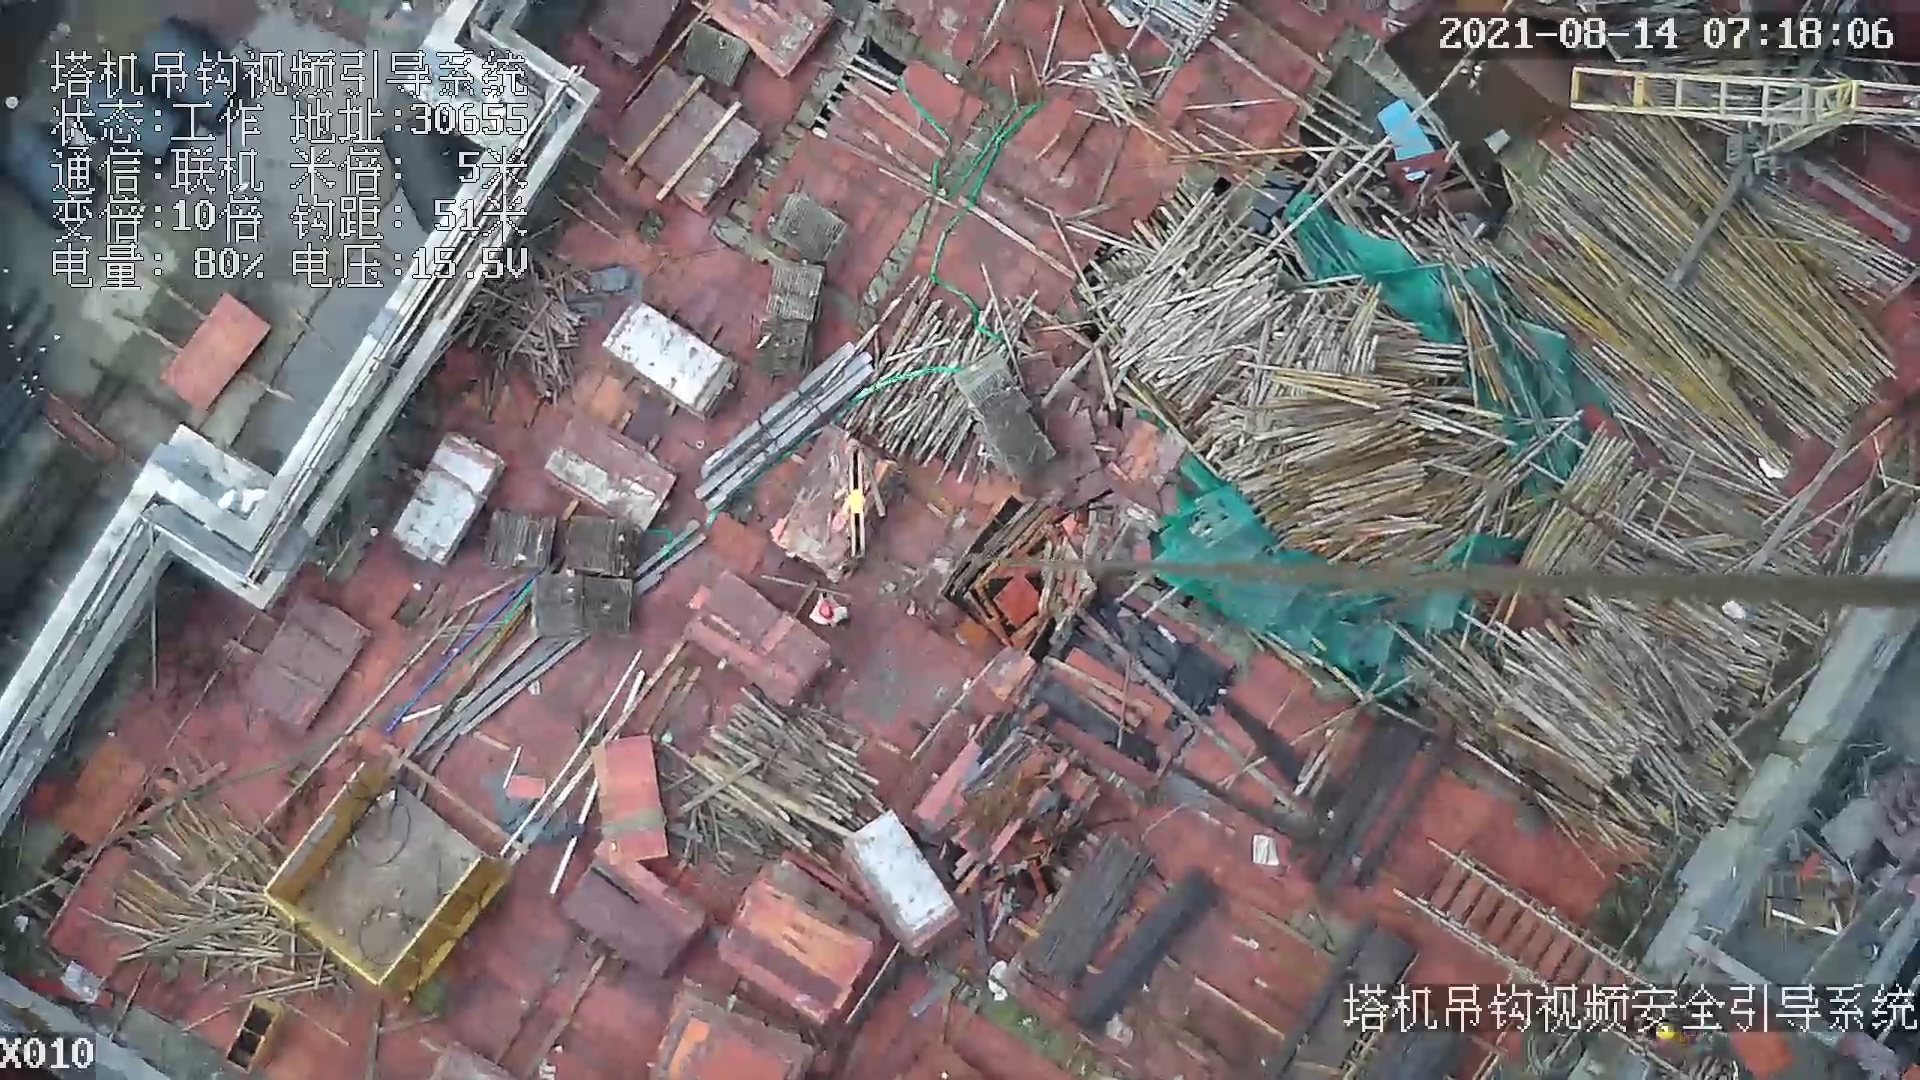helmet: (818, 604, 834, 623)
hook: (828, 440, 874, 565)
person: (811, 591, 855, 637)
